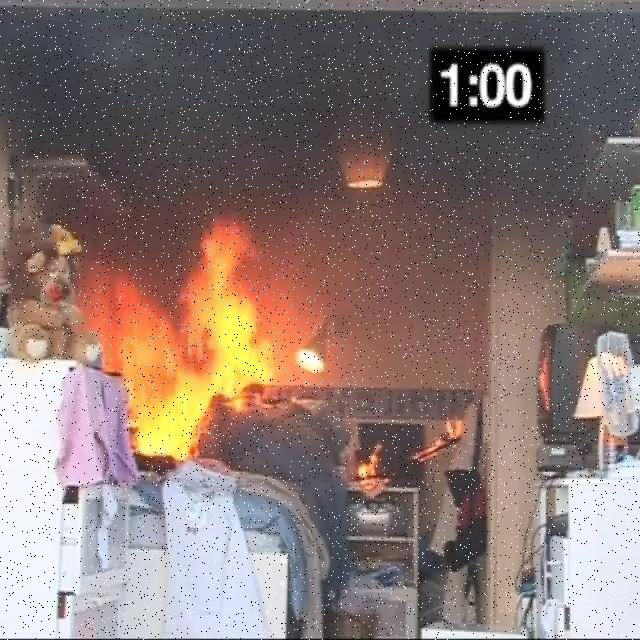fire: (122, 213, 294, 447)
light: (338, 169, 394, 197)
smoke: (33, 14, 330, 205)
